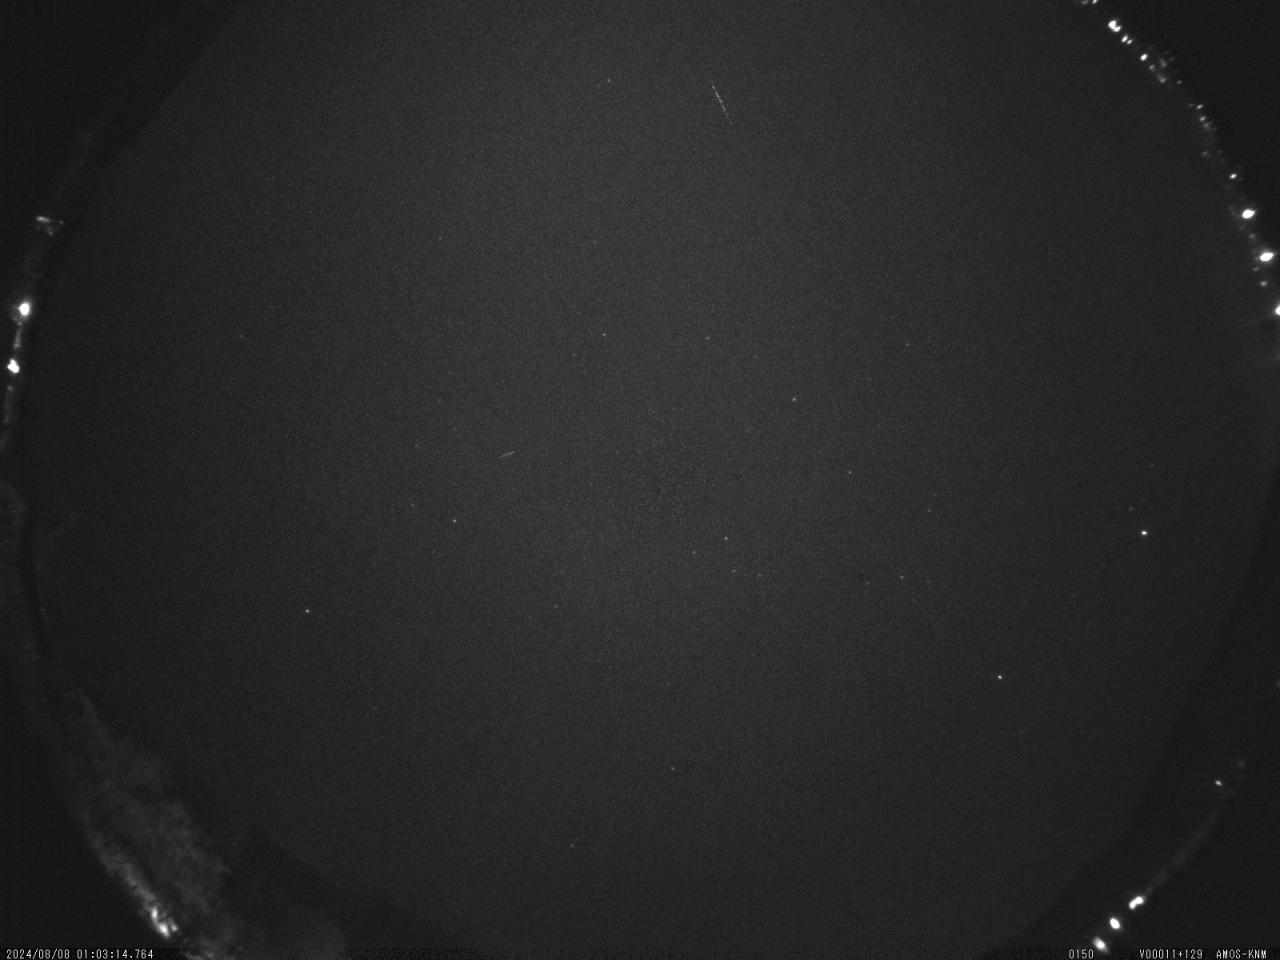Meteor: (702, 73, 737, 128)
